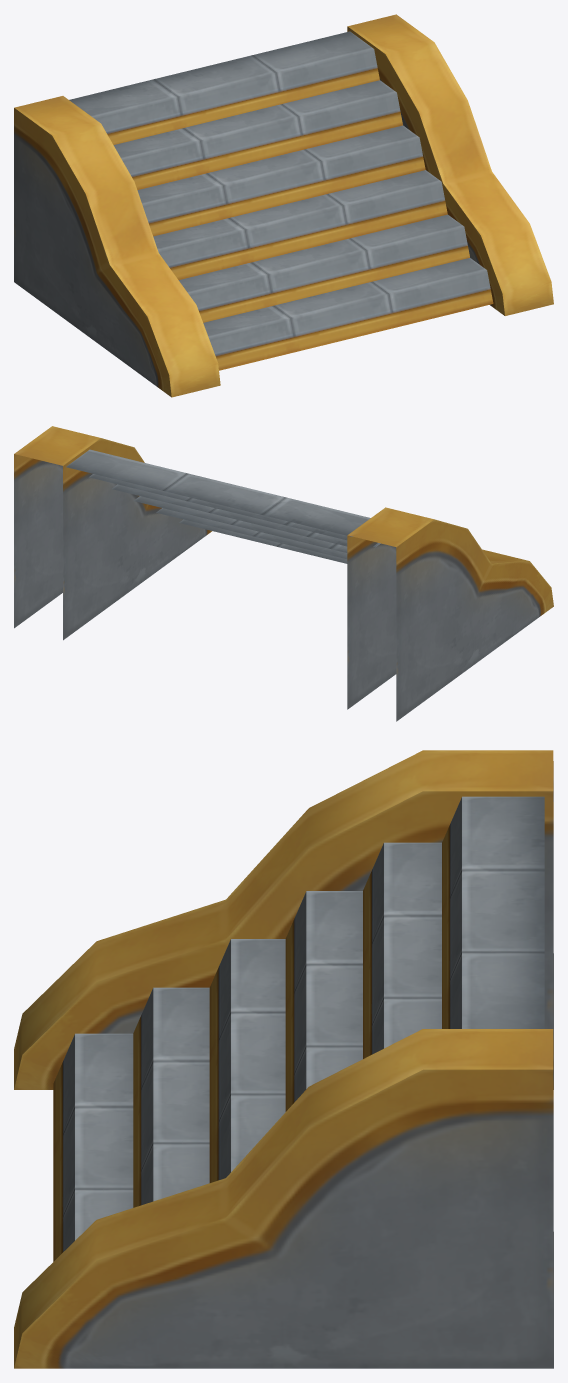
File: sea_stair.FBX
The picture shows the model from 3 angles, top to bottom: view 1: azimuth 30°, elevation 25°; view 2: azimuth 150°, elevation 25°; view 3: azimuth 270°, elevation 25°; orthographic projection. The views are drawn at different scales.
Visible parts, largest first — view 1: Object110; view 2: Object110; view 3: Object110.
Part boxes in pixels (<box>): Object110: <box>14,14,553,397</box>; Object110: <box>14,426,553,721</box>; Object110: <box>14,750,553,1368</box>.
Size of the model in its own units: 223 by 159 by 97.14.
